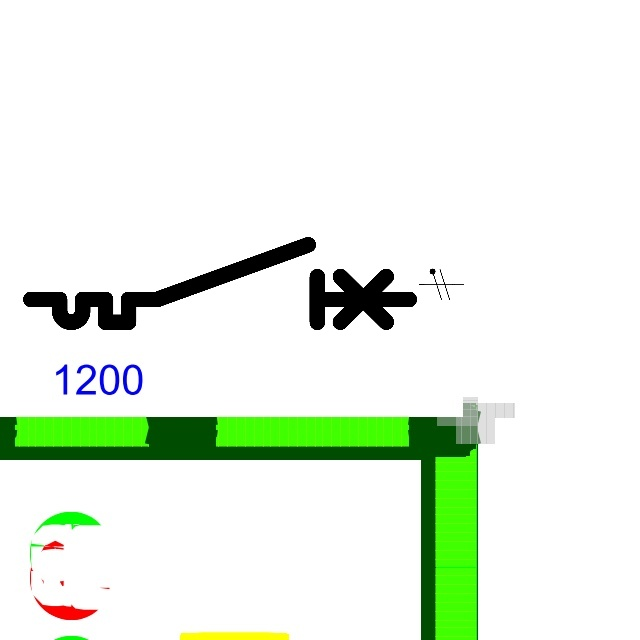interruptor_termomagnetico: (21, 235, 419, 332)
